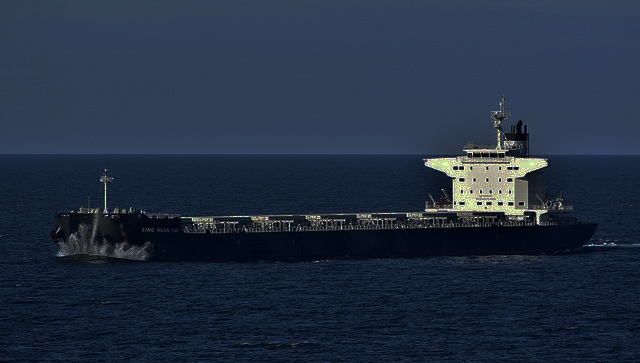bulk carrier: (55, 98, 599, 255)
